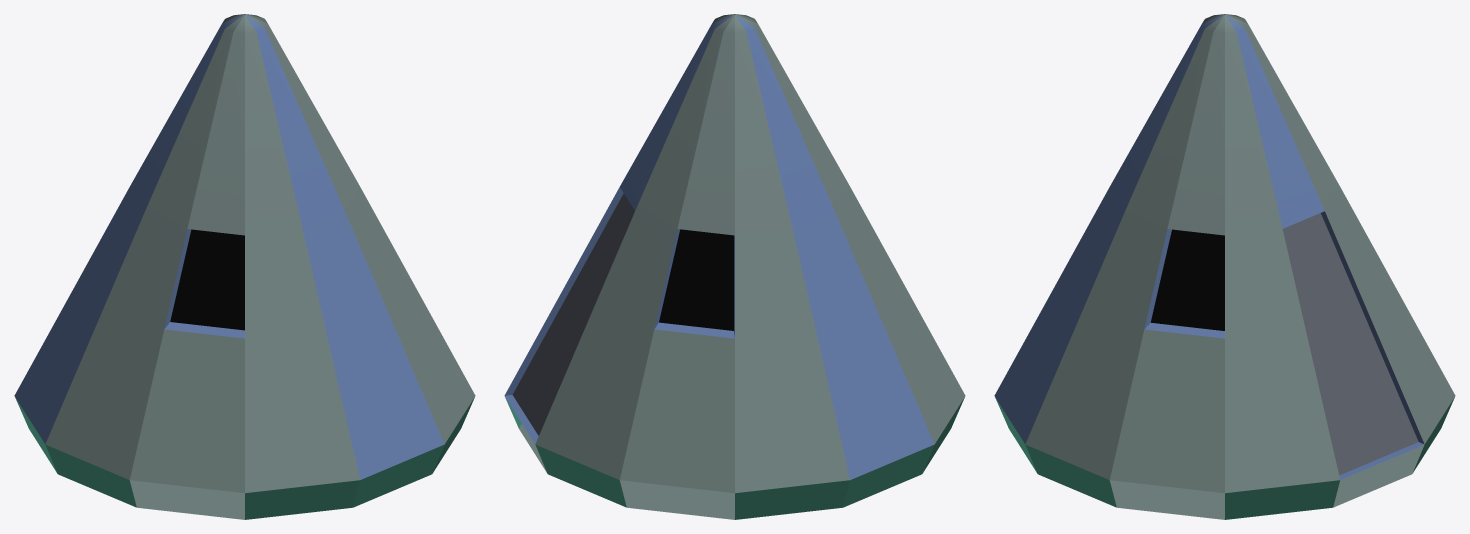
The model's file is RocketBody.fbx.
The picture shows the model from 3 angles, left to right: view 1: azimuth 30°, elevation 25°; view 2: azimuth 150°, elevation 25°; view 3: azimuth 270°, elevation 25°; orthographic projection.
Visible parts, largest first — view 1: RocketBody; view 2: RocketBody; view 3: RocketBody.
Part boxes in pixels (x1,y1,x2,y2): RocketBody: (14, 14, 475, 519); RocketBody: (504, 14, 965, 519); RocketBody: (994, 14, 1455, 519).
Size of the model in its own units: 11.77 by 11.67 by 11.77.
